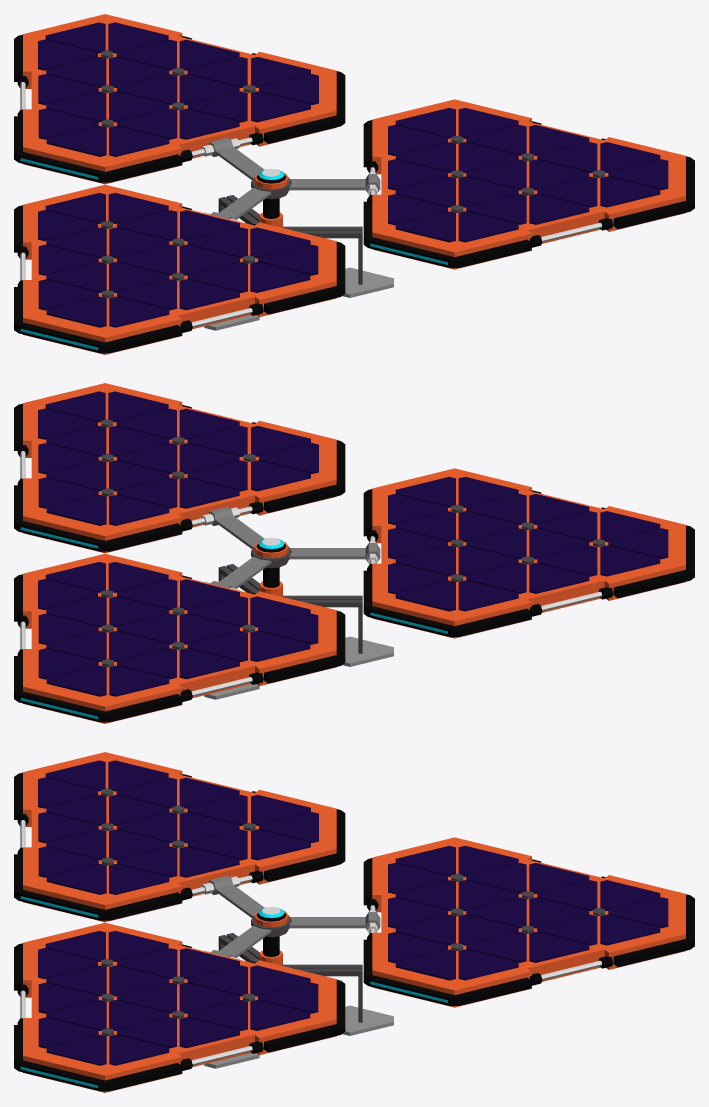
The model's file is SolarCell.fbx.
The picture shows the model from 3 angles, top to bottom: view 1: azimuth 30°, elevation 25°; view 2: azimuth 150°, elevation 25°; view 3: azimuth 270°, elevation 25°; orthographic projection.
Visible parts, largest first — view 1: Circle.003, Circle.002, Circle.004, Cylinder.001, Circle.001; view 2: Circle.002, Circle.004, Circle.003, Cylinder.001, Circle.001; view 3: Circle.004, Circle.003, Circle.002, Cylinder.001, Circle.001.
Boxes of the visible parts, x1,y1,x2,y2 form: Circle.003: (289,99,694,269); Circle.002: (14,184,345,354); Circle.004: (14,14,345,184); Cylinder.001: (204,195,393,330); Circle.001: (251,168,291,218); Circle.002: (289,468,694,638); Circle.004: (14,553,345,723); Circle.003: (14,383,345,553); Cylinder.001: (204,564,393,699); Circle.001: (251,537,291,587); Circle.004: (289,837,694,1007); Circle.003: (14,922,345,1092); Circle.002: (14,752,345,922); Cylinder.001: (204,933,393,1068); Circle.001: (251,906,291,956).
Bounding box in the file's own units: 1753 × 1528 × 277.
